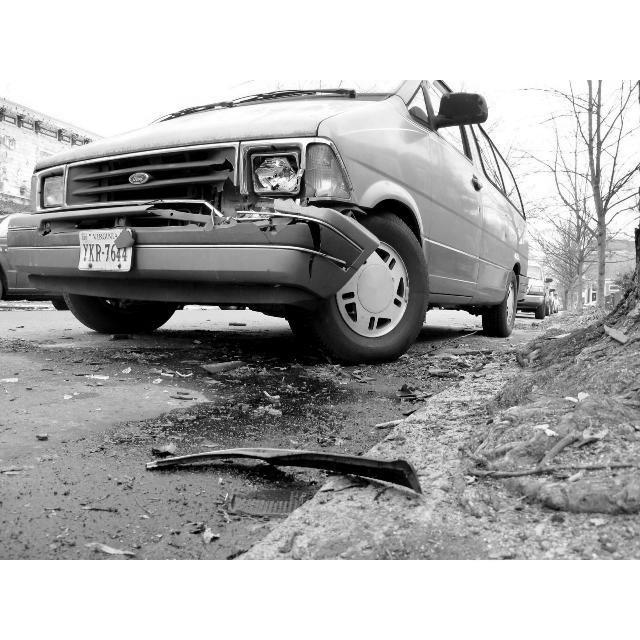Headlight-damage: (232, 117, 375, 207)
front-bumper-dent: (142, 176, 356, 286)
